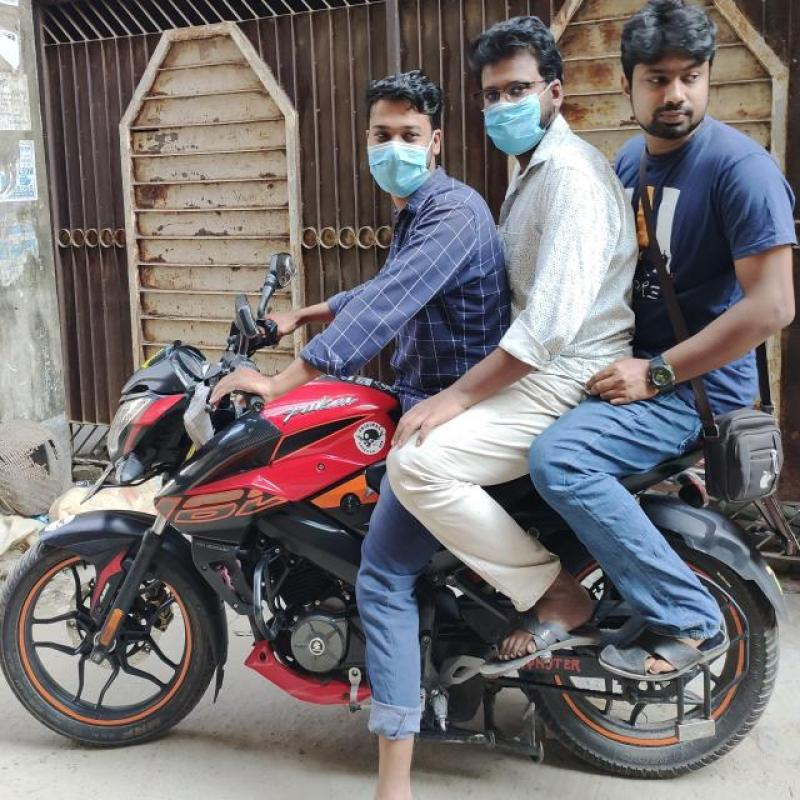nohelmet: (464, 22, 574, 163), (611, 0, 714, 146), (356, 73, 446, 196)
